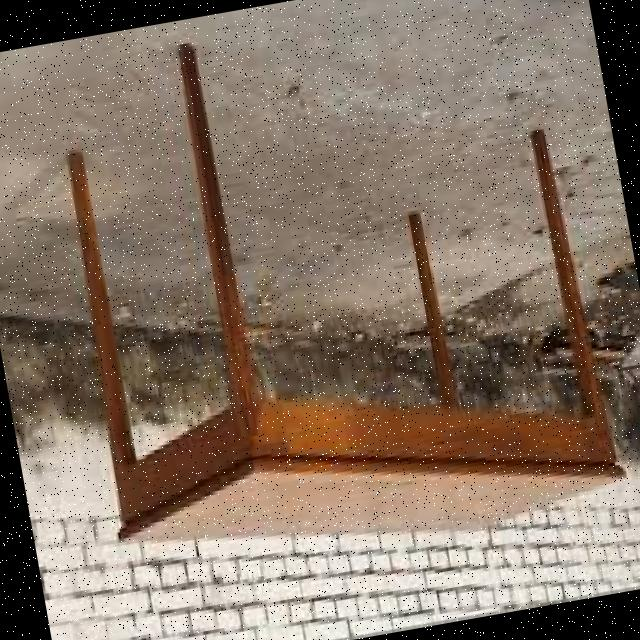Table: (23, 0, 640, 604)
